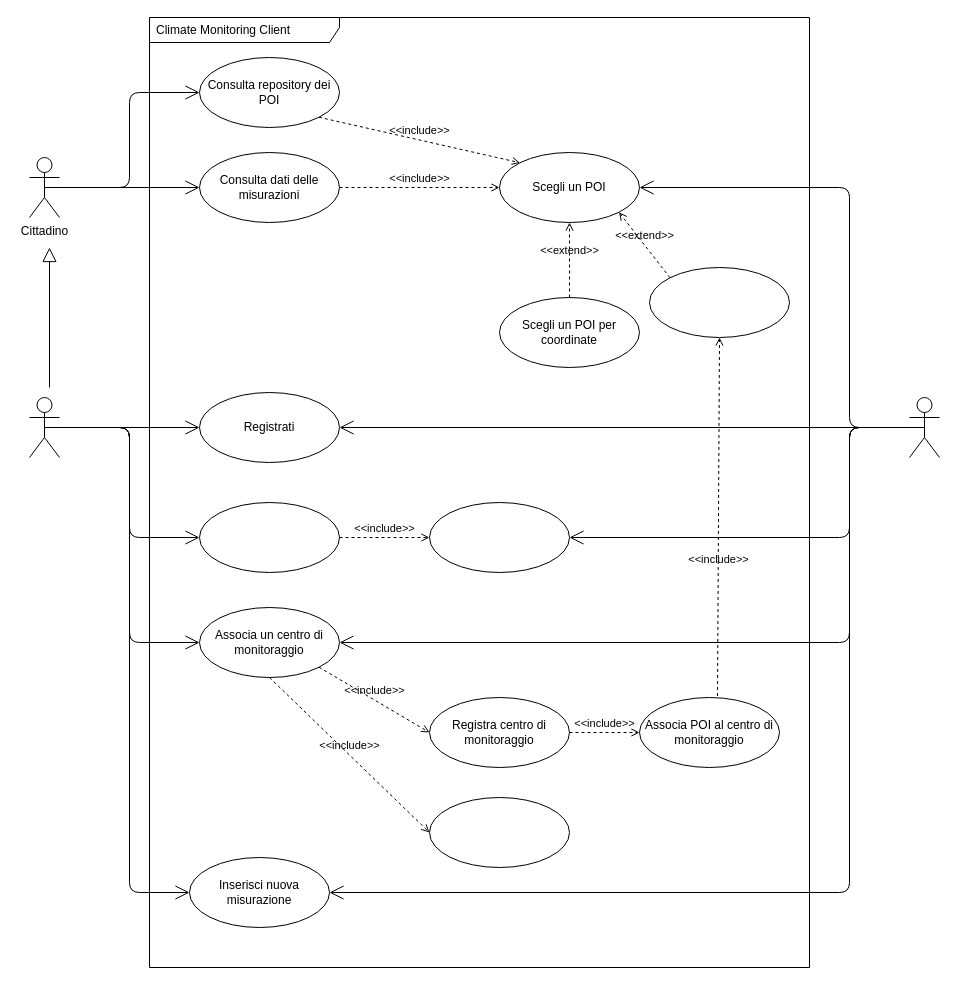
The diagram is 975 pixels wide and 985 high, and some of its shapes have lost their labels. The box of each missing label's shape, as (x1, y1, x2, y2) in pixels:
<<system>> Servizio RMI: (908, 396, 940, 458)
Accedi all'area riservata: (198, 502, 340, 572)
Autenticati: (428, 502, 570, 572)
Operatore: (28, 396, 60, 458)
Scegli centro di monitoraggio: (428, 796, 570, 868)
Scegli un POI per nome: (648, 266, 790, 338)
